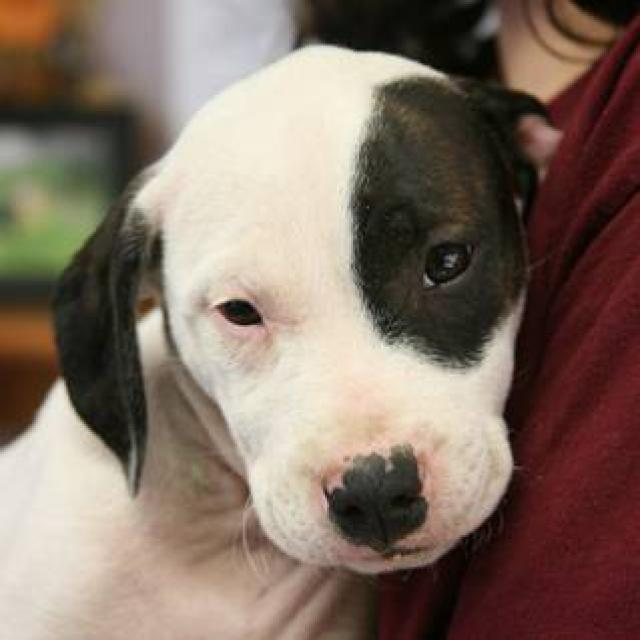dog: (0, 40, 564, 638)
